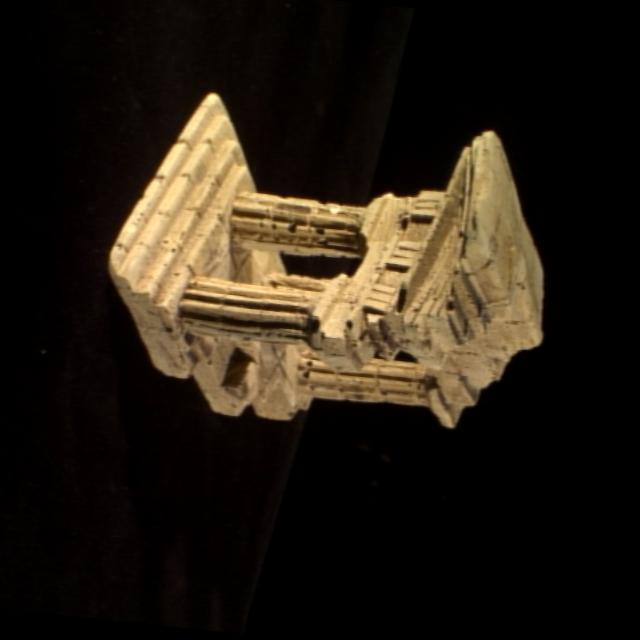Instance-Segmentation: (109, 94, 541, 425)
